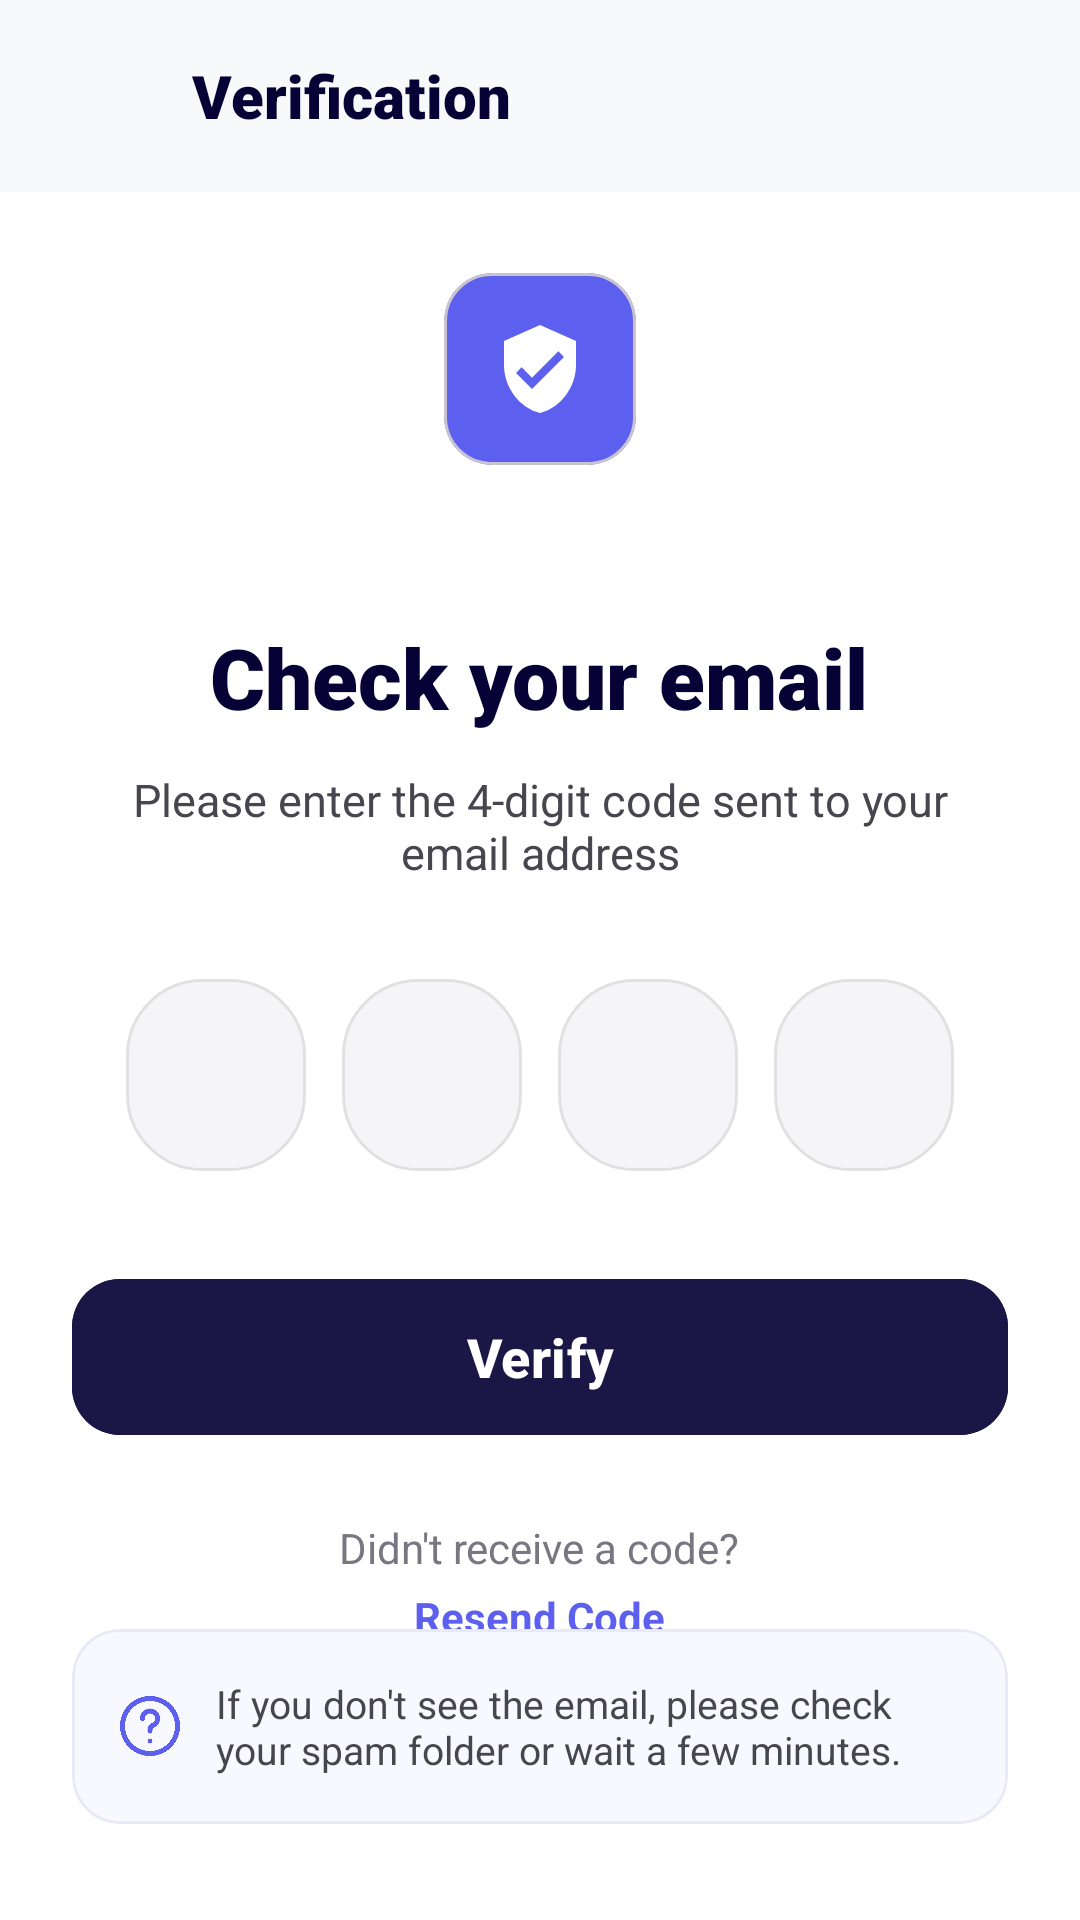

Screen size 1080 × 1920. Icon name, then its center in pixels as (x,y):
certified: (540,369)
faq: (150,1726)
